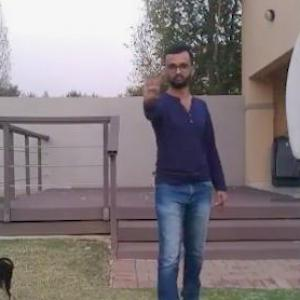takeoff-hand: (134, 62, 164, 104)
